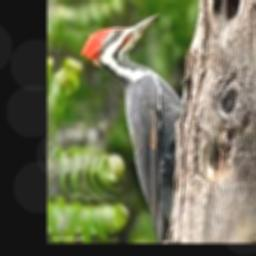Woodpecker: (81, 14, 184, 244)
